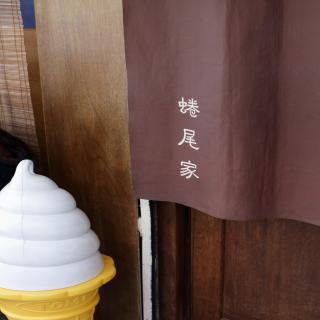Ice cream: (1, 156, 107, 307)
